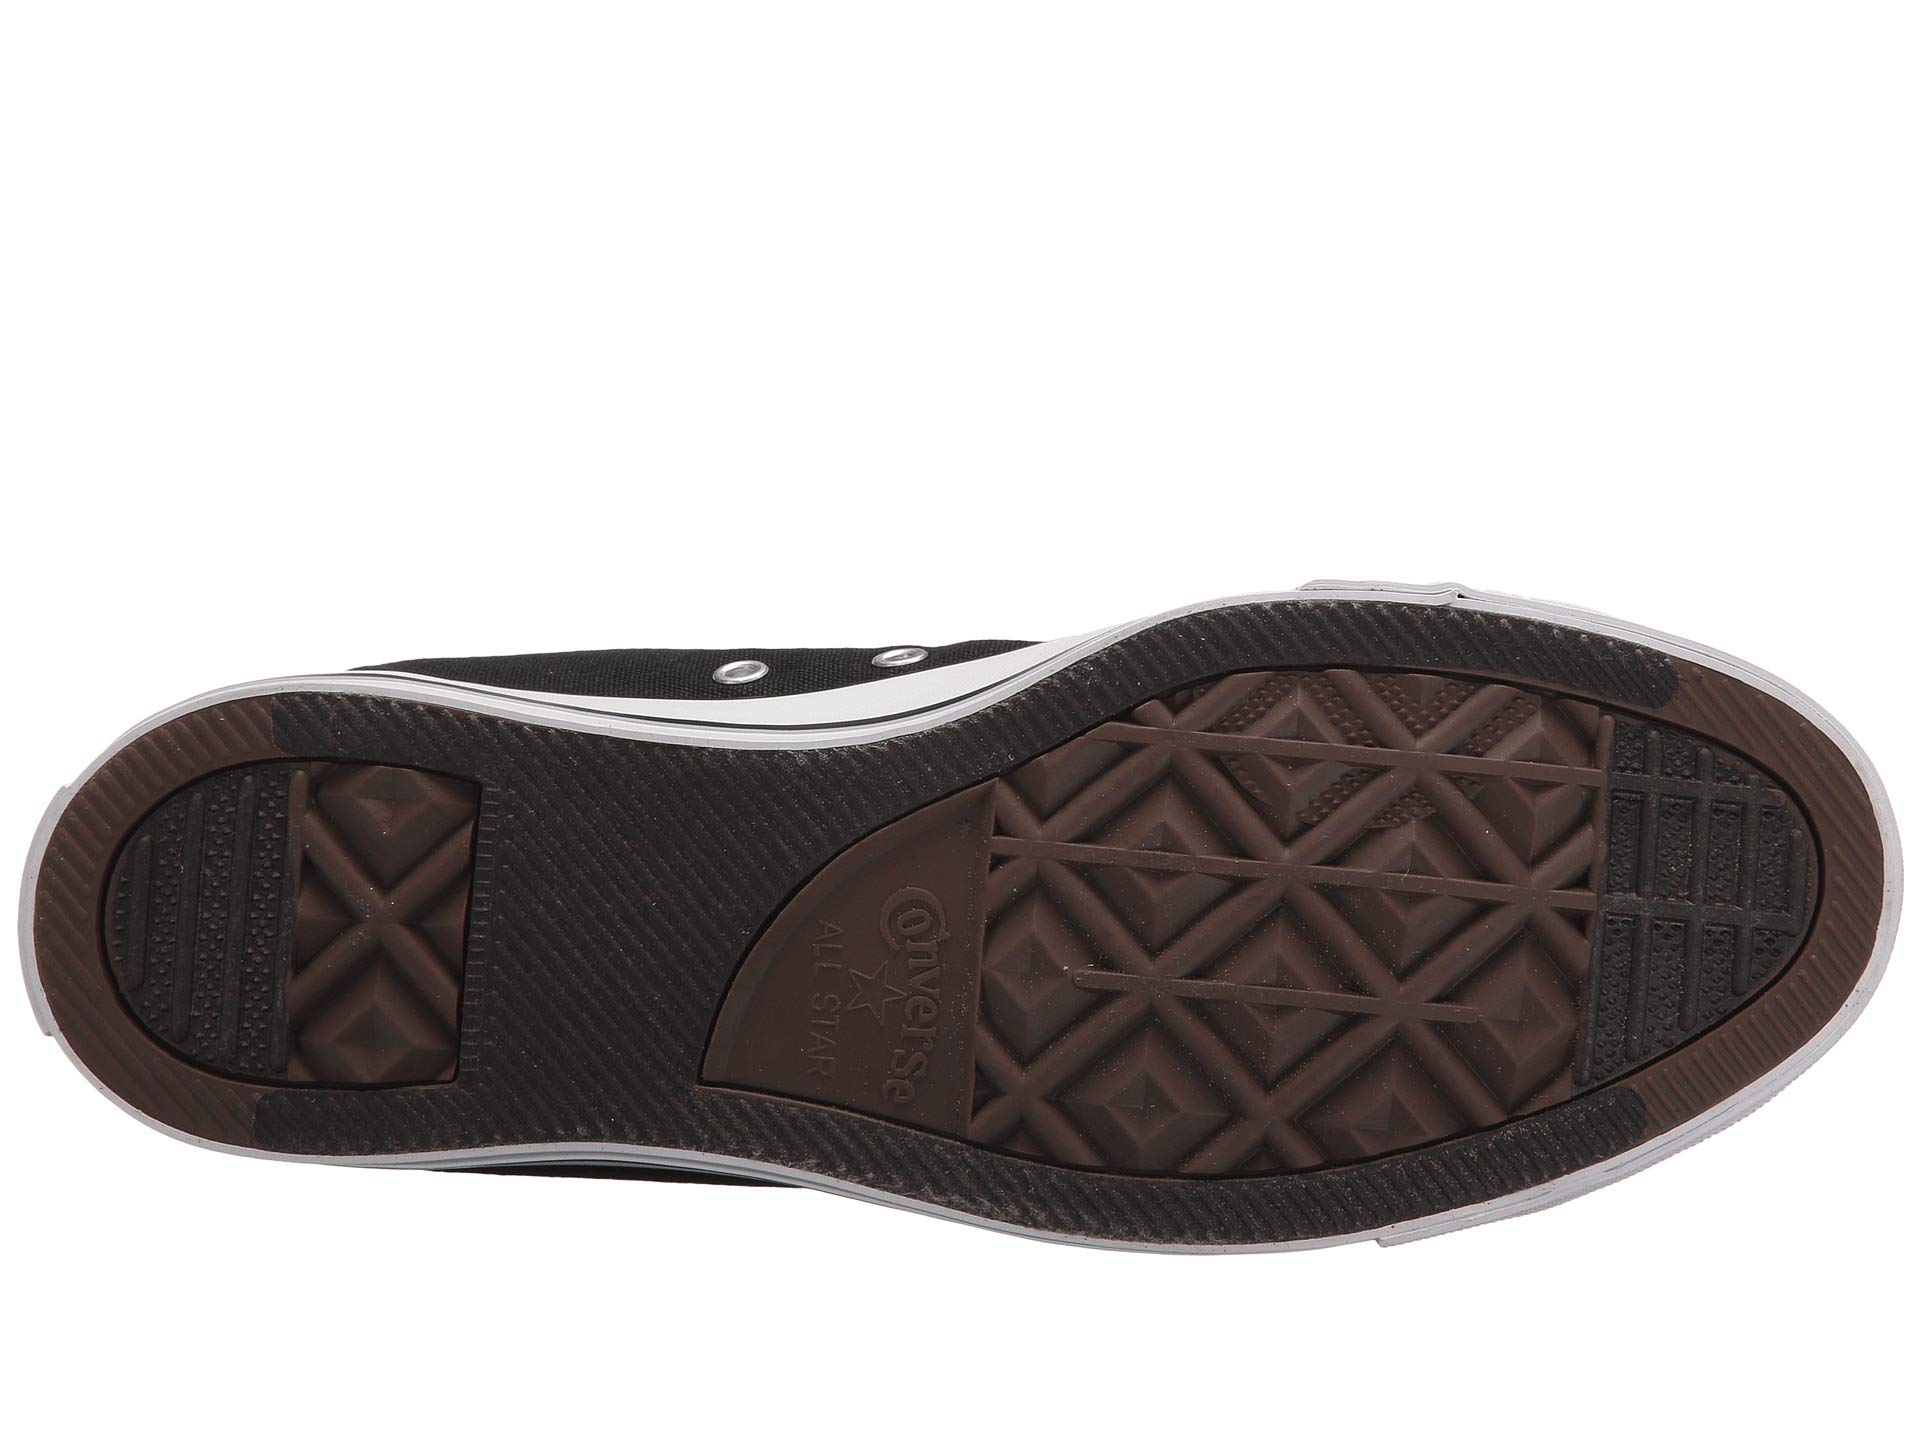chevron: (1039, 210, 1358, 546)
circle: (751, 290, 924, 549)
line: (751, 290, 924, 549), (1560, 197, 1730, 408)
other: (502, 194, 714, 396), (469, 404, 630, 560)
quad: (1039, 210, 1358, 546), (1560, 197, 1730, 408)
star: (751, 290, 924, 549)
text: (751, 290, 924, 549), (777, 343, 921, 492)
triangle: (1039, 210, 1358, 546)
